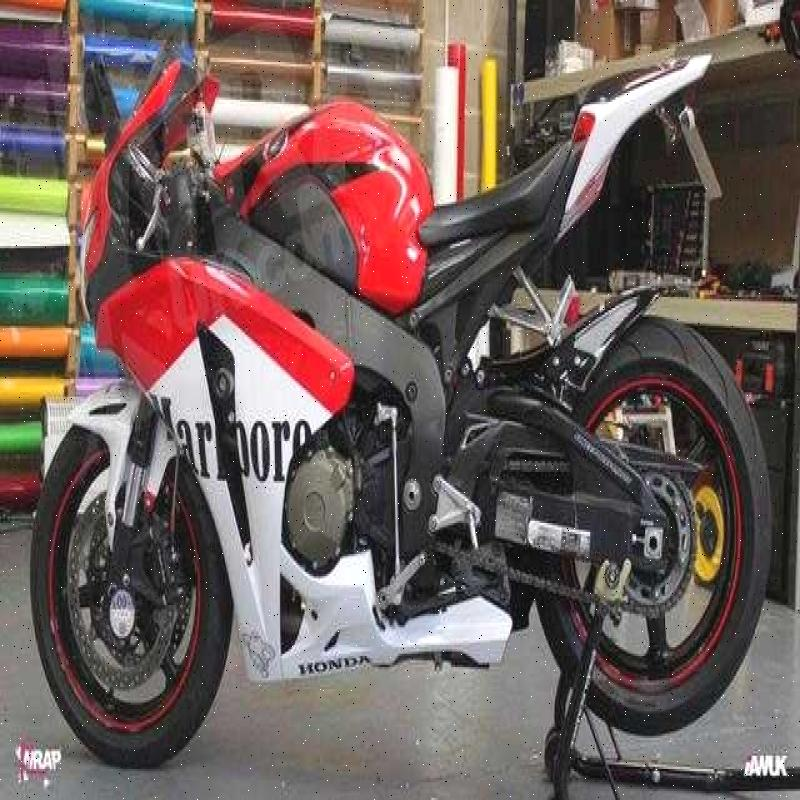bike: (27, 26, 770, 758)
